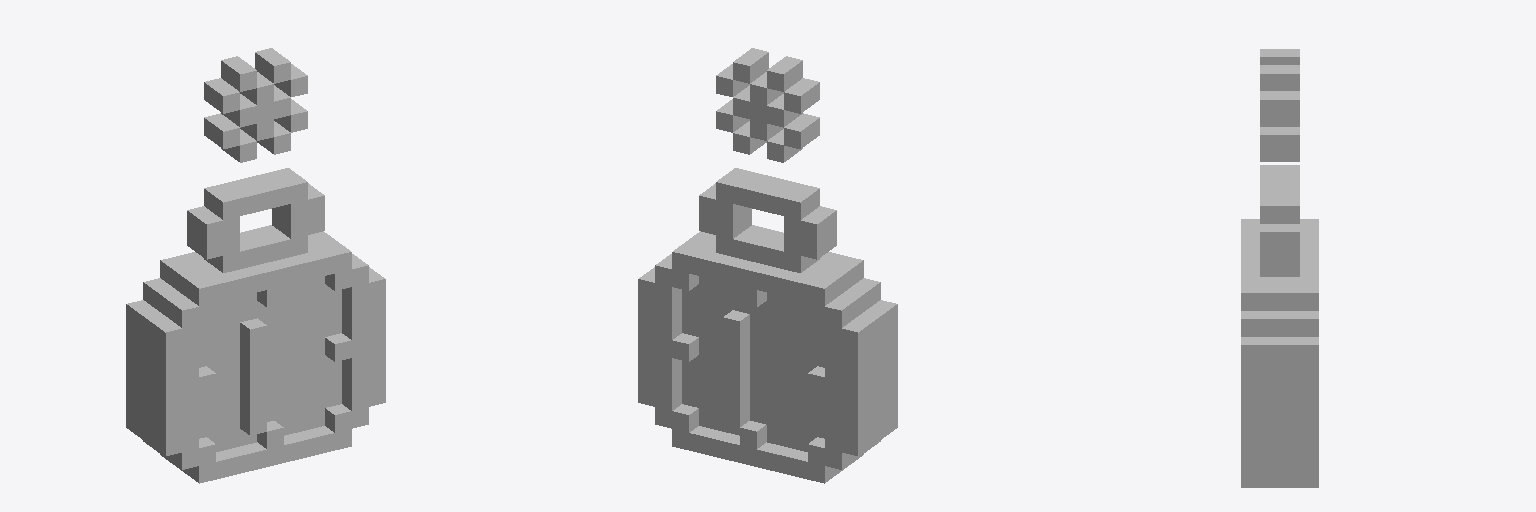
Rendered from Stopwatch Freeze 2.obj.
The picture shows the model from 3 angles: view 1: azimuth 30°, elevation 25°; view 2: azimuth 150°, elevation 25°; view 3: azimuth 270°, elevation 25°; orthographic projection.
Visible parts, largest first — view 1: object 1; view 2: object 1; view 3: object 1.
Part boxes in pixels (x1,y1,x2,y2): object 1: (126,48,385,483); object 1: (638,48,897,483); object 1: (1241,49,1318,487).
Bounding box in the file's own units: 1.3 × 2.2 × 0.4.